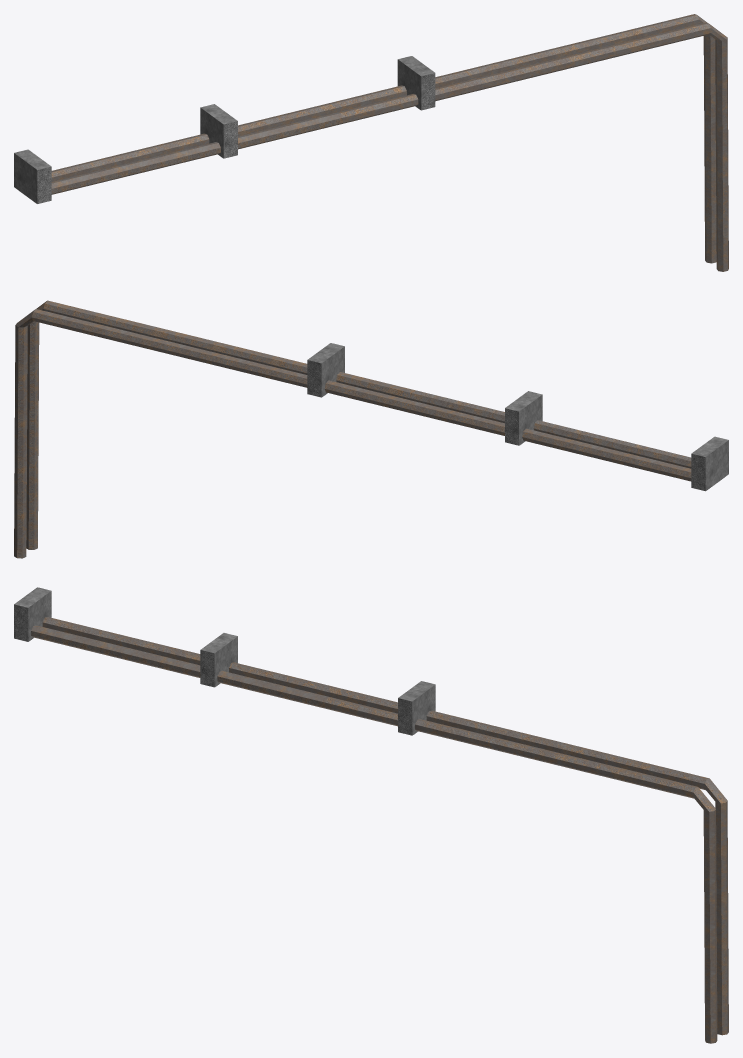
The model's file is pipes.glb.
3 renders of one model, top to bottom at view 1: azimuth 30°, elevation 25°; view 2: azimuth 150°, elevation 25°; view 3: azimuth 330°, elevation 25°, orthographic.
Parts seen in each view (by area): view 1: Cylinder.001, Cube.002; view 2: Cylinder.001, Cube.002; view 3: Cylinder.001, Cube.002.
Boxes of the visible parts, x1,y1,x2,y2 form: Cylinder.001: (51, 14, 728, 271); Cube.002: (14, 56, 435, 203); Cylinder.001: (14, 300, 691, 558); Cube.002: (307, 343, 728, 491); Cylinder.001: (31, 617, 728, 1043); Cube.002: (14, 587, 435, 735).
Bounding box in the file's own units: 9.46 × 3.53 × 0.5507.
3 materials, 3 textured.
